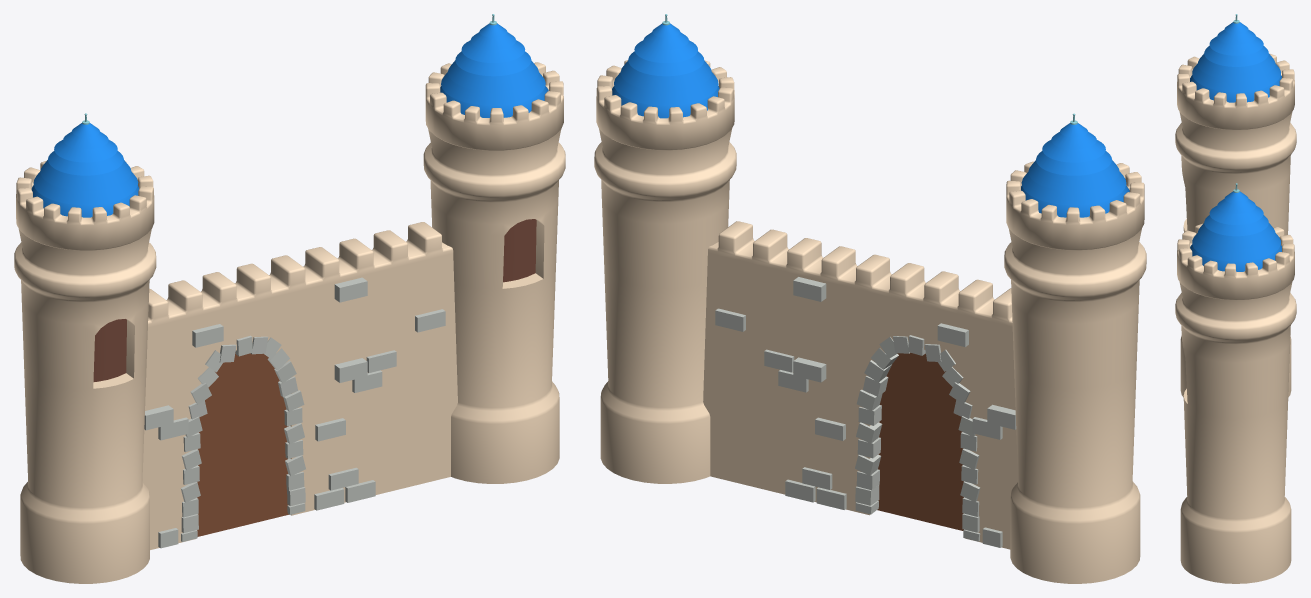
File: Castle_1_2 (1).fbx
3 renders of one model, left to right at view 1: azimuth 30°, elevation 25°; view 2: azimuth 150°, elevation 25°; view 3: azimuth 270°, elevation 25°, orthographic. The views are drawn at different scales.
Parts seen in each view (by area): view 1: Wall, Colon_L, Colon_R, Door; view 2: Wall, Colon_L, Colon_R, Door; view 3: Colon_R, Colon_L.
Boxes of the visible parts, <box> form: Wall: <box>142,222,457,549</box>; Colon_L: <box>14,113,156,583</box>; Colon_R: <box>423,14,565,483</box>; Door: <box>197,352,288,536</box>; Wall: <box>703,221,1017,549</box>; Colon_L: <box>1004,113,1146,583</box>; Colon_R: <box>594,14,736,483</box>; Door: <box>877,352,963,530</box>; Colon_R: <box>1175,183,1296,583</box>; Colon_L: <box>1175,14,1296,397</box>.
Size of the model in its own units: 129 by 102 by 29.8.
